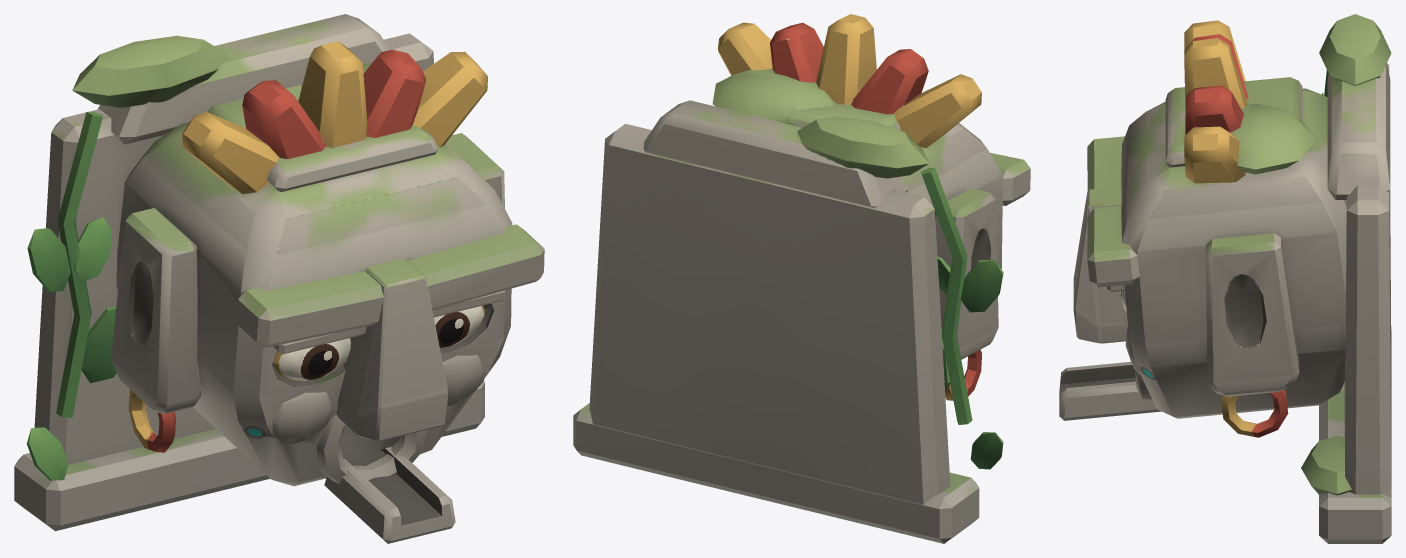
File: bulul_spout.glb
The picture shows the model from 3 angles, left to right: view 1: azimuth 30°, elevation 25°; view 2: azimuth 150°, elevation 25°; view 3: azimuth 270°, elevation 25°; orthographic projection. The views are drawn at different scales.
Visible parts, largest first — view 1: bulul_spout; view 2: bulul_spout; view 3: bulul_spout.
Part boxes in pixels (box(x1,y1,x2,y2)): bulul_spout: box(14, 14, 544, 543); bulul_spout: box(573, 14, 1030, 543); bulul_spout: box(1059, 14, 1391, 543).
Size of the model in its own units: 2.53 by 2.53 by 1.83.
1 material, 1 textured.
